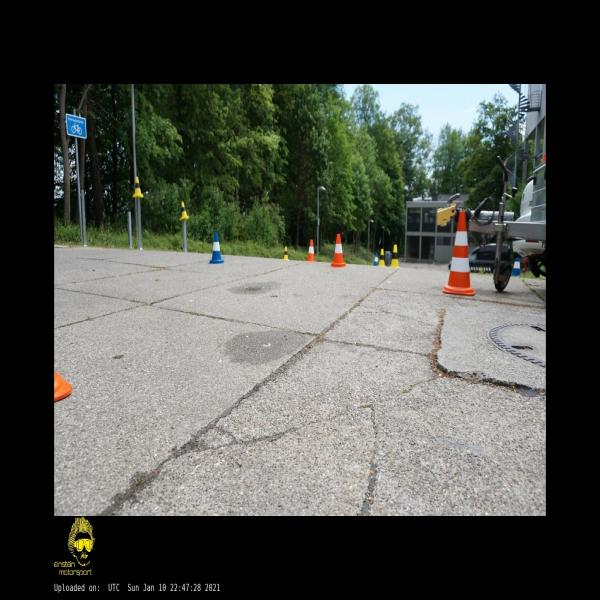blue_cone: (209, 233, 224, 264), (511, 256, 521, 276), (374, 253, 378, 265)
large_orange_cone: (442, 211, 475, 295)
orange_cone: (331, 233, 346, 267), (306, 239, 315, 261)
yellow_cone: (133, 176, 143, 197), (179, 201, 189, 221), (391, 244, 398, 267), (378, 248, 384, 266), (283, 246, 288, 259)
